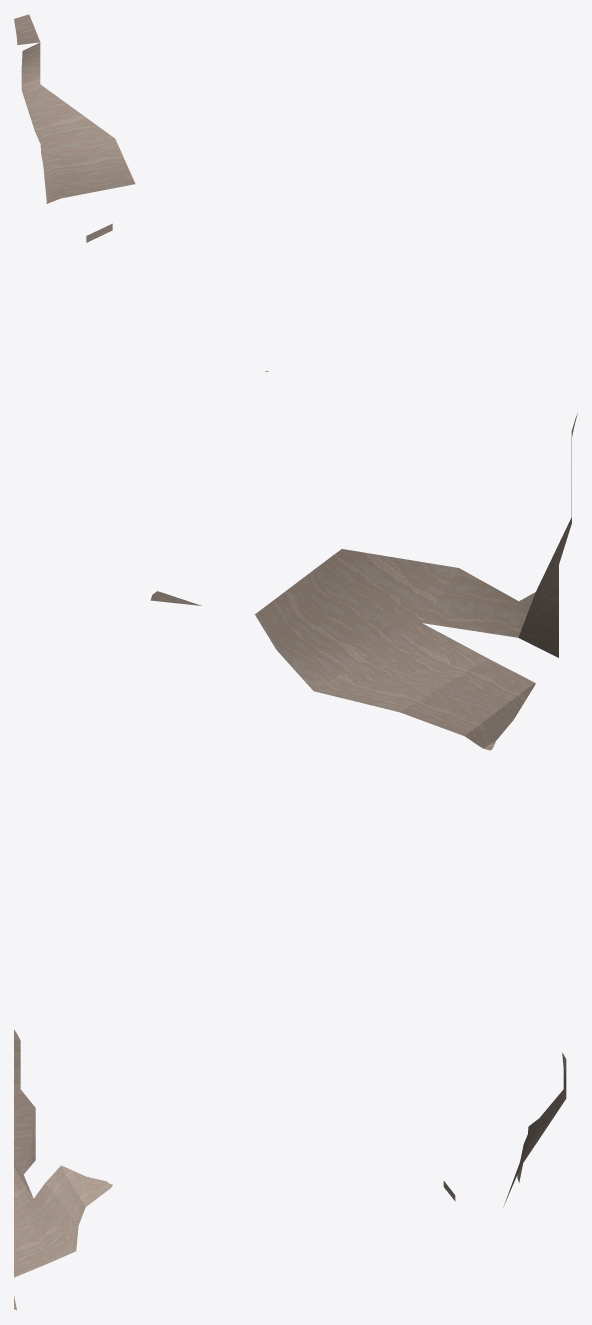
Rendered from kd_stage_13612f_2_6_bounded.glb.
3 views of the same model, one above another, from view 1: azimuth 30°, elevation 25°; view 2: azimuth 150°, elevation 25°; view 3: azimuth 270°, elevation 25° (orthographic). The views are drawn at different scales.
Visible parts, largest first — view 1: kd_stage_13612f_2_6_bounded; view 2: kd_stage_13612f_2_6_bounded; view 3: kd_stage_13612f_2_6_bounded.
Part boxes in pixels (x1,y1,x2,y2): kd_stage_13612f_2_6_bounded: (14,14,268,371); kd_stage_13612f_2_6_bounded: (150,414,577,750); kd_stage_13612f_2_6_bounded: (14,1029,566,1310).
Bounding box in the file's own units: 77.63 × 51.35 × 157.
1 material, 1 textured.
